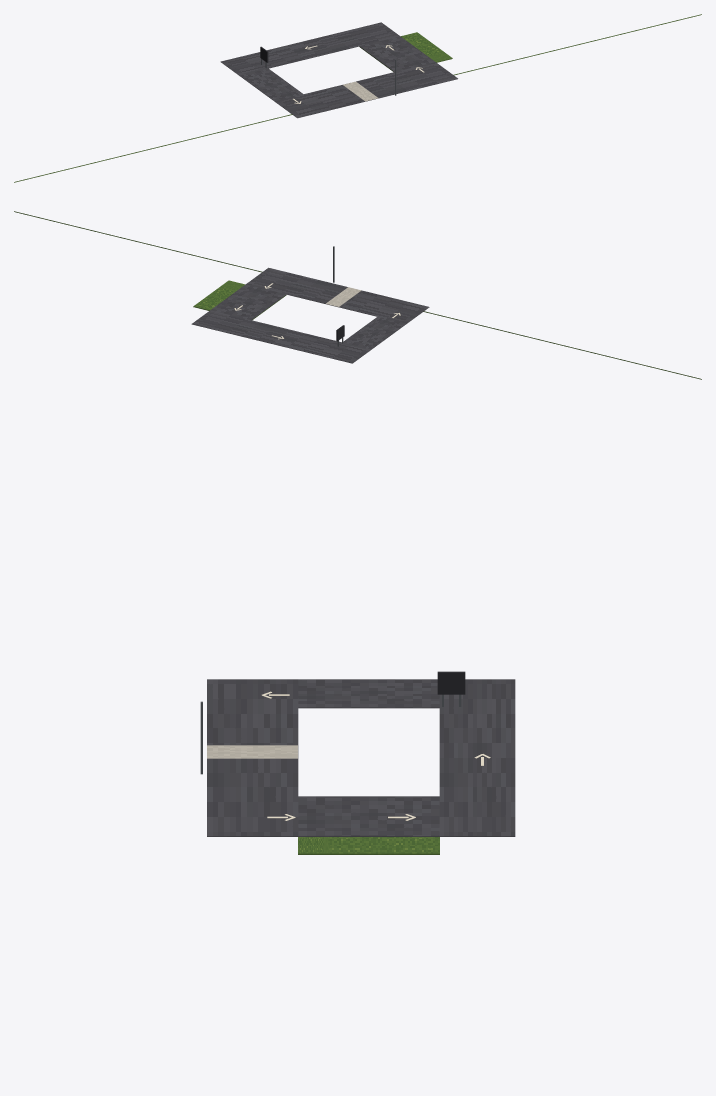
File: structure.glb
3 views of the same model, one above another, from view 1: azimuth 30°, elevation 25°; view 2: azimuth 150°, elevation 25°; view 3: azimuth 270°, elevation 25° (orthographic). The views are drawn at different scales.
Parts seen in each view (by area): view 1: Box7, Box6, Box9, Box8, Box1, Box3, Box22; view 2: Box7, Box6, Box9, Box8, Box1, Box3, Box22; view 3: Box7, Box6, Box9, Box8, Box3, Box22.
Boxes of the visible parts, x1,y1,x2,y2 form: Box7: [275, 62, 457, 118]; Box6: [220, 22, 399, 75]; Box9: [359, 36, 434, 71]; Box8: [239, 68, 303, 101]; Box1: [14, 14, 701, 182]; Box3: [360, 32, 444, 66]; Box22: [343, 81, 378, 101]; Box7: [246, 267, 429, 323]; Box6: [191, 310, 371, 363]; Box9: [210, 284, 286, 320]; Box8: [343, 316, 406, 349]; Box1: [14, 211, 701, 379]; Box3: [193, 286, 278, 320]; Box22: [326, 287, 361, 306]; Box7: [207, 679, 298, 836]; Box6: [439, 679, 515, 836]; Box9: [298, 796, 439, 836]; Box8: [298, 679, 439, 708]; Box3: [329, 837, 439, 854]; Box22: [207, 745, 297, 758].
Size of the model in its own units: 92.28 by 4.72 by 18.27.
6 materials, 3 textured.
